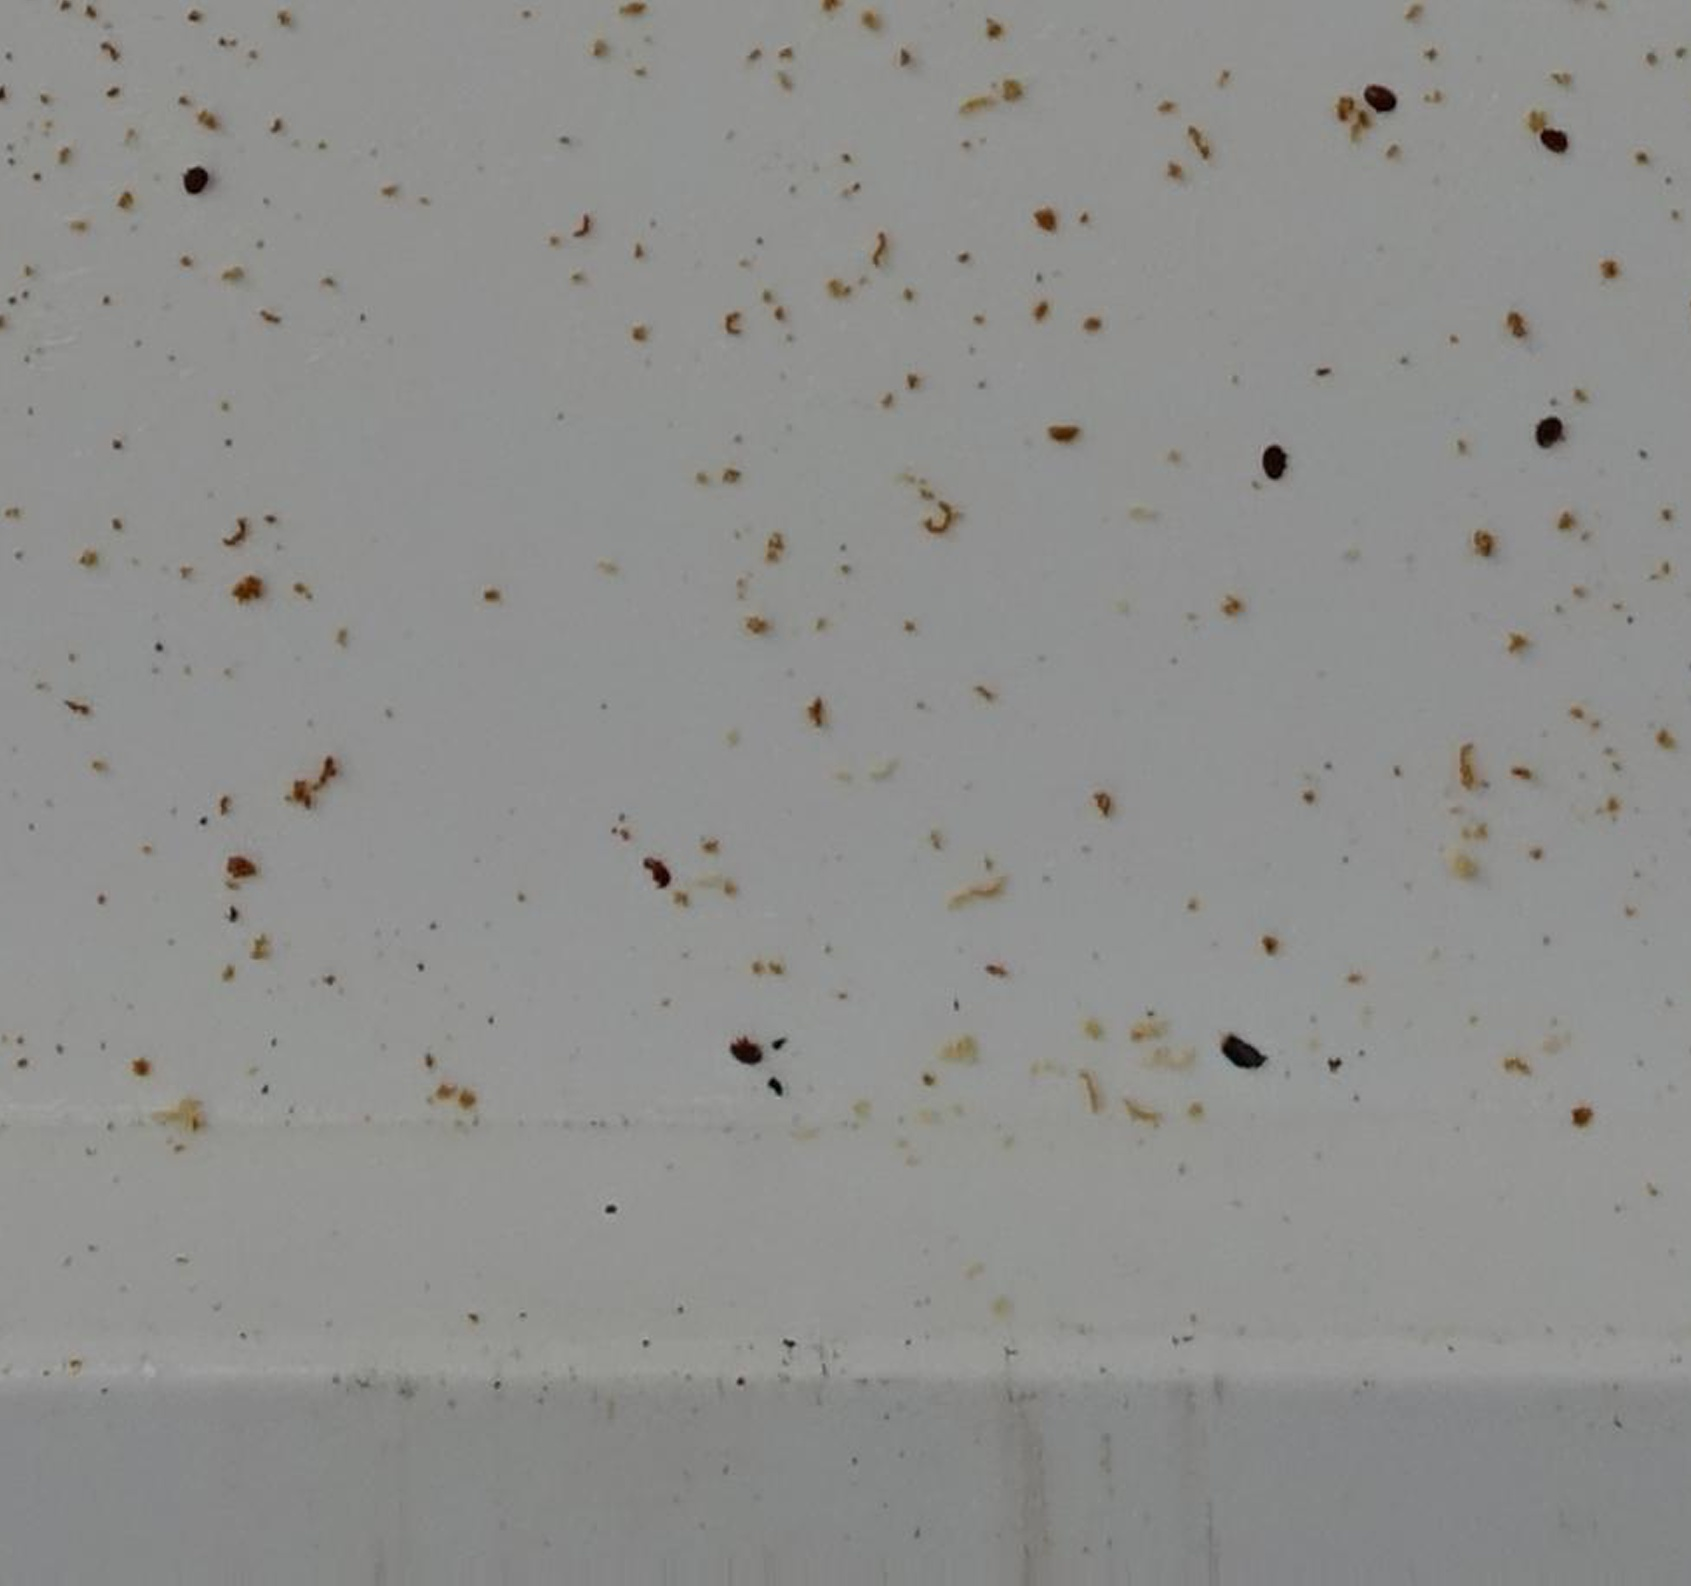Varroa: (731, 1037, 761, 1067), (1265, 449, 1294, 477), (1534, 417, 1563, 446), (1367, 83, 1394, 112), (1545, 128, 1569, 152), (180, 164, 203, 186)
